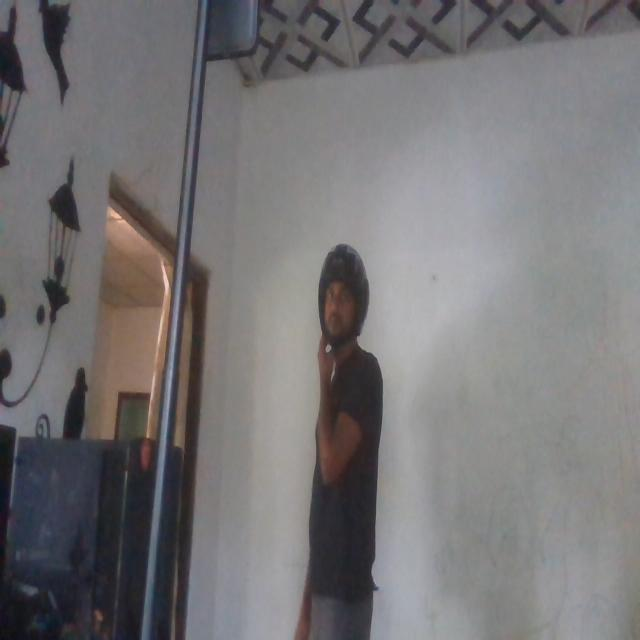Helmet_Wearer: (318, 246, 372, 366)
Person: (291, 240, 385, 640)
